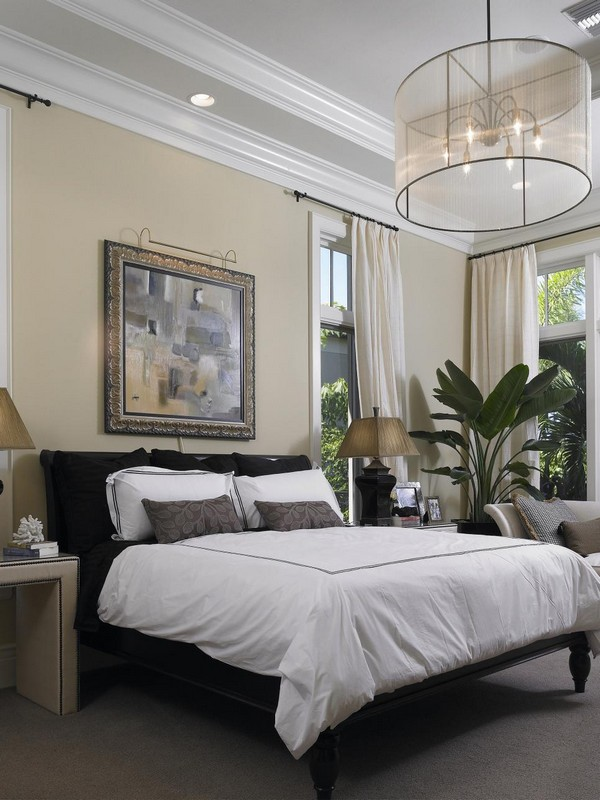bed: (35, 440, 600, 794)
lamp: (336, 406, 421, 522), (4, 383, 31, 556)
stool: (1, 548, 81, 737)
